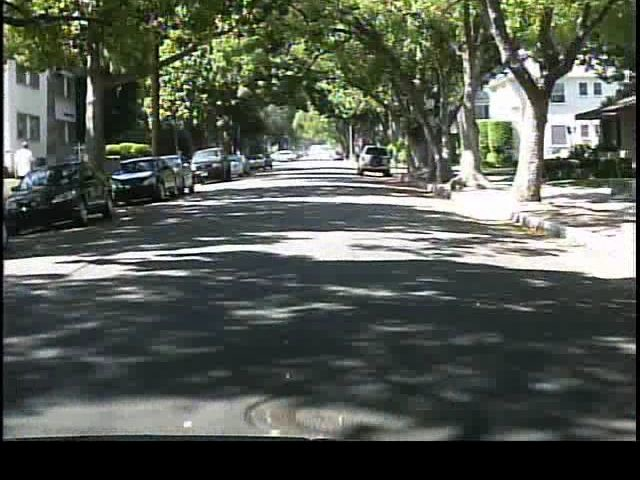person: (13, 138, 41, 205)
